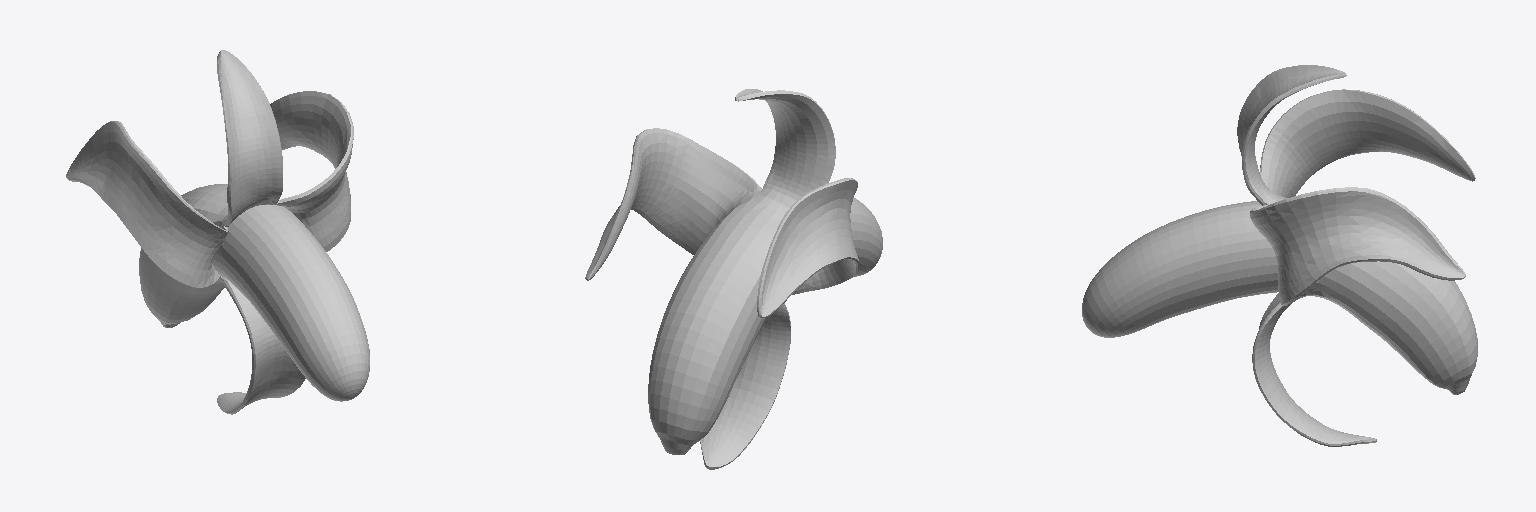
The model's file is Plátano medio pelado.obj.
3 views of the same model, side by side, from view 1: azimuth 30°, elevation 25°; view 2: azimuth 150°, elevation 25°; view 3: azimuth 270°, elevation 25° (orthographic).
Parts seen in each view (by area): view 1: Object.1; view 2: Object.1; view 3: Object.1.
Boxes of the visible parts, box(x1,y1,x2,y2) form: Object.1: box(66, 50, 369, 414); Object.1: box(585, 89, 882, 469); Object.1: box(1082, 65, 1477, 446).
Size of the model in its own units: 247 by 389 by 382.